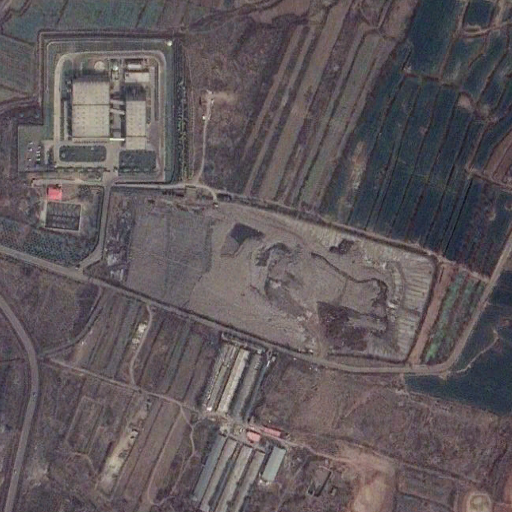lf: (80, 188, 438, 367)
